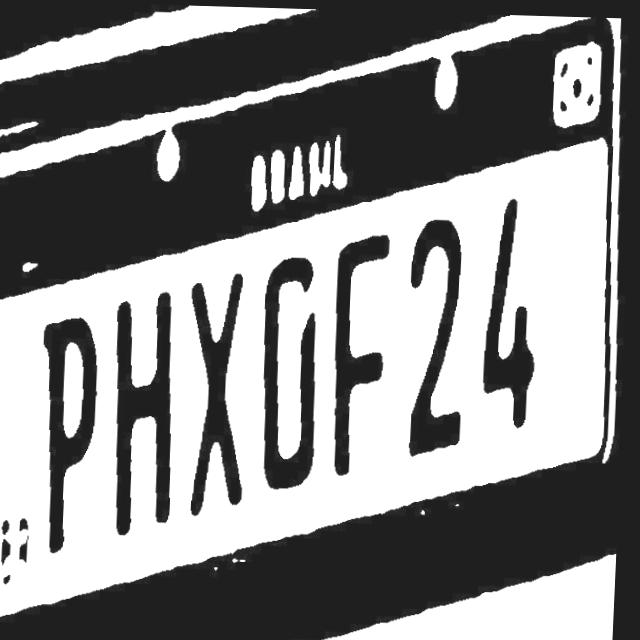0: (250, 244, 329, 493)
2: (405, 212, 484, 460)
4: (473, 188, 551, 433)
f: (322, 228, 407, 491)
h: (110, 283, 194, 540)
p: (26, 310, 110, 560)
x: (176, 256, 270, 519)
